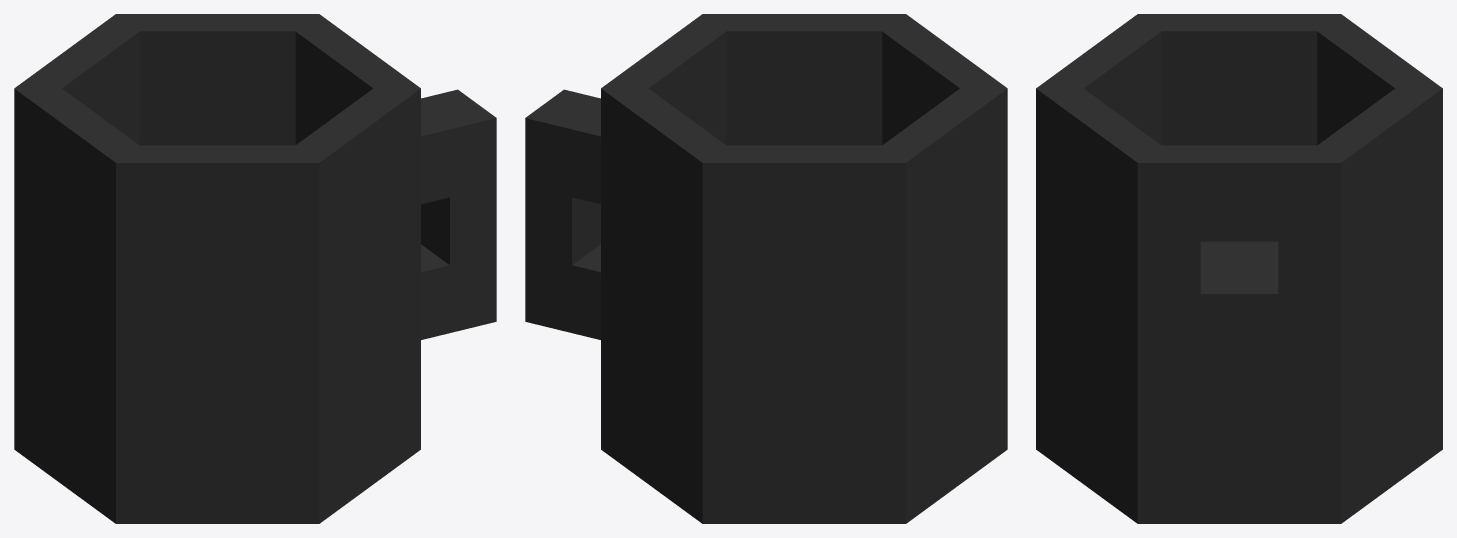
File: Mug_001.fbx
3 views of the same model, side by side, from view 1: azimuth 30°, elevation 25°; view 2: azimuth 150°, elevation 25°; view 3: azimuth 270°, elevation 25° (orthographic).
Visible parts, largest first — view 1: Mug.001; view 2: Mug.001; view 3: Mug.001.
Part boxes in pixels (left/top/right/bottom): Mug.001: left=14, top=14, right=496, bottom=523; Mug.001: left=525, top=14, right=1007, bottom=523; Mug.001: left=1036, top=14, right=1442, bottom=523.
Size of the model in its own units: 0.1482 by 0.124 by 0.1267.
